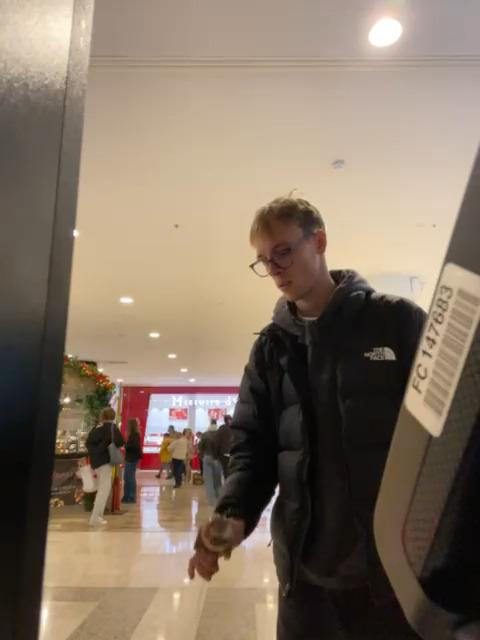kendama_ball: (201, 514, 235, 552)
